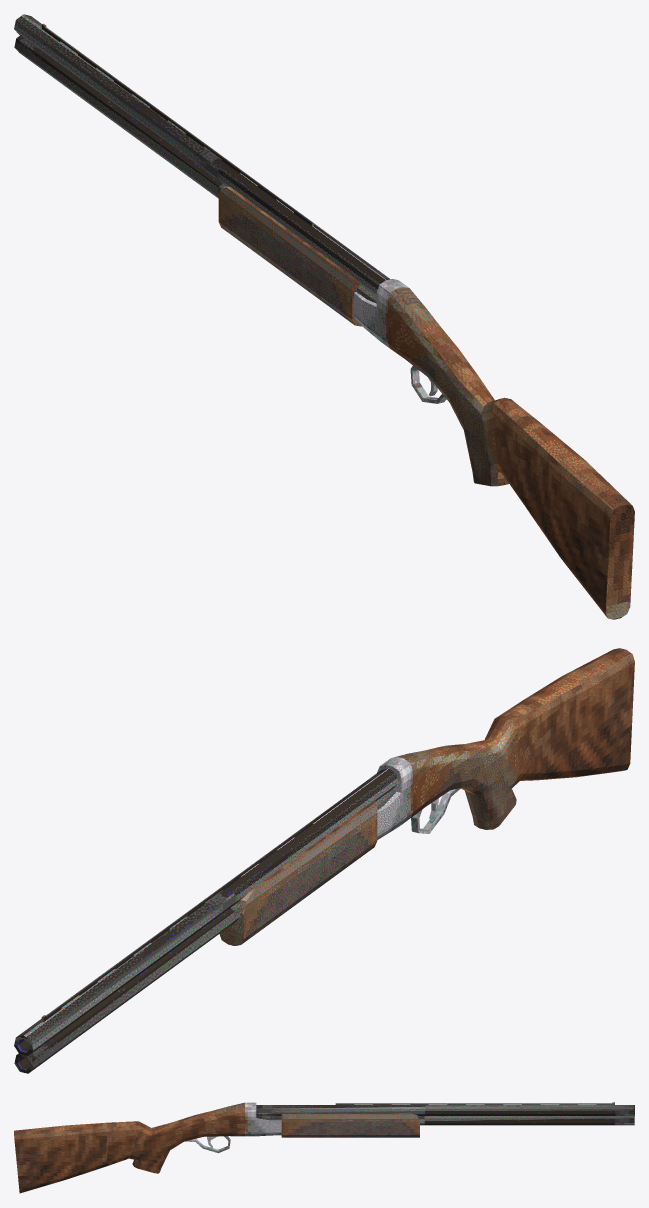
Rendered from shotgun.glb.
The picture shows the model from 3 angles, top to bottom: view 1: azimuth 30°, elevation 25°; view 2: azimuth 150°, elevation 25°; view 3: azimuth 270°, elevation 25°; orthographic projection. The views are drawn at different scales.
Visible parts, largest first — view 1: Cube.002, Cube.001; view 2: Cube.002, Cube.001; view 3: Cube.002, Cube.001.
Part boxes in pixels (x1=…): Cube.002: x1=354, y1=279, x2=634, y2=619; Cube.001: x1=14, y1=14, x2=390, y2=326; Cube.002: x1=377, y1=648, x2=634, y2=839; Cube.001: x1=14, y1=768, x2=398, y2=1073; Cube.002: x1=14, y1=1102, x2=281, y2=1193; Cube.001: x1=256, y1=1102, x2=634, y2=1137.
Bounding box in the file's own units: 0.1158 × 0.6762 × 4.23.
2 materials, 2 textured.
